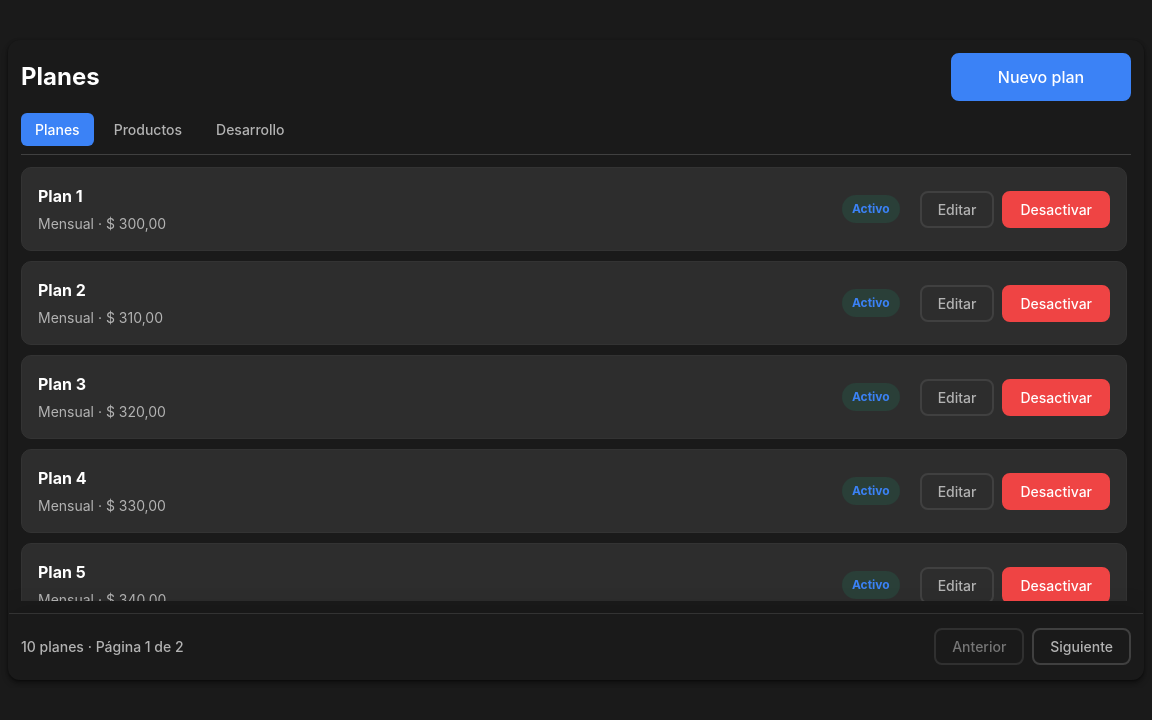
mantiene disponible la pestaña de desarrollo en el entorno de desarrollo
This screenshot has width=1152, height=720.
Expected: the heading "Planes" is shown, [21,63,100,91]
What coordinates should you click on to do the following:
click the tab "Desarrollo"
I would click on:
 (250, 130)
Its box is [202,113,298,146].
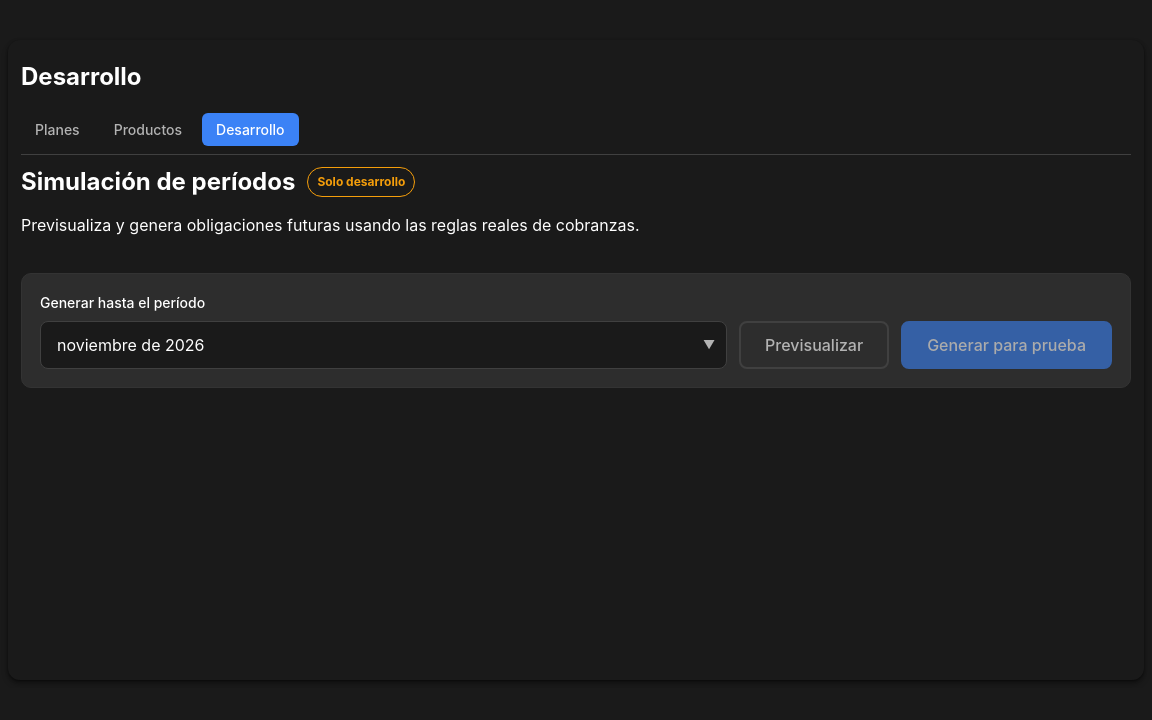
Expected: the heading "Desarrollo" is shown, [21,63,142,91]
Expected: the heading "Simulación de períodos" is shown, [21,168,295,196]
Expected: the button "Nuevo plan" is gone
